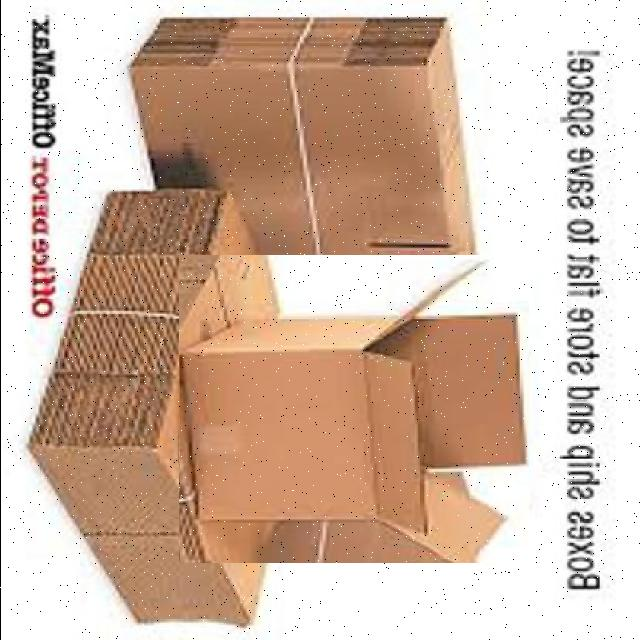defect: (178, 255, 528, 563)
